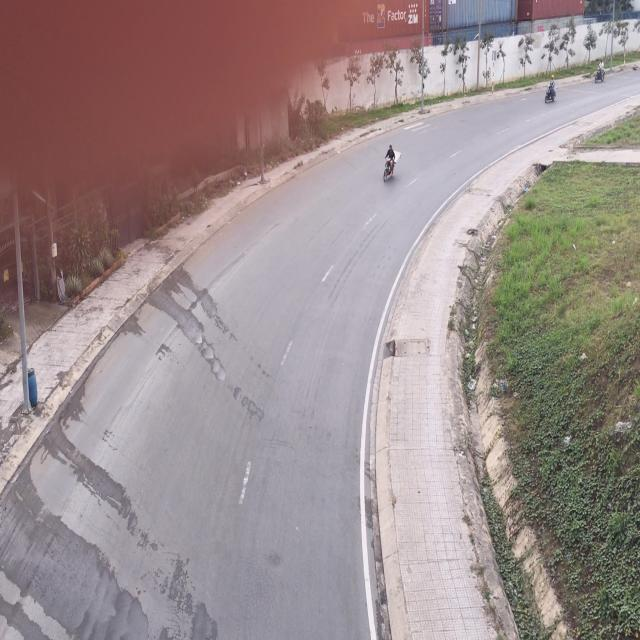motorbike: (383, 142, 398, 186), (544, 77, 558, 107)
